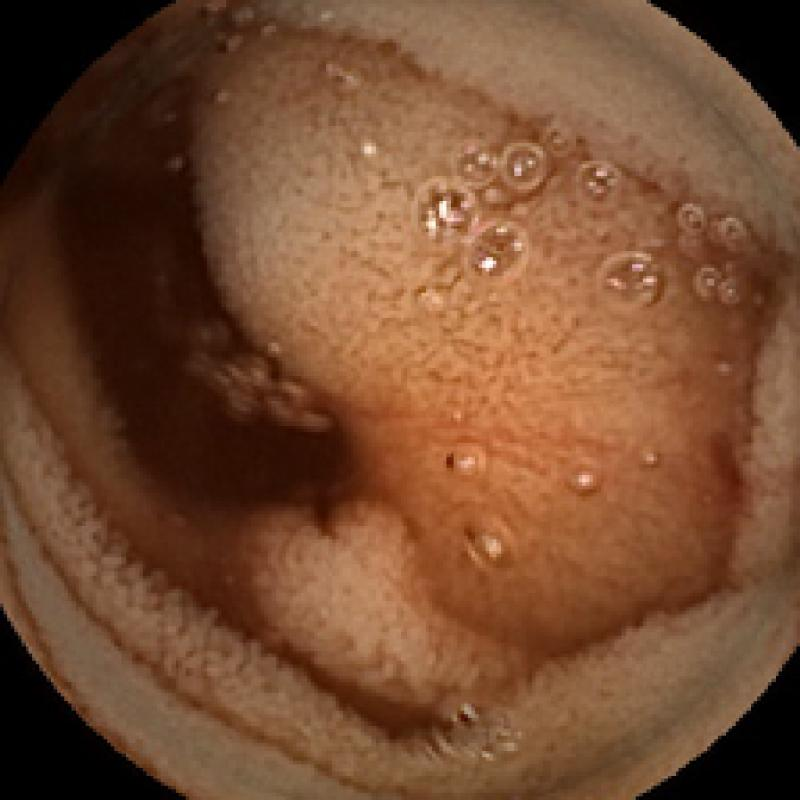bleeding: (75, 86, 711, 518)
